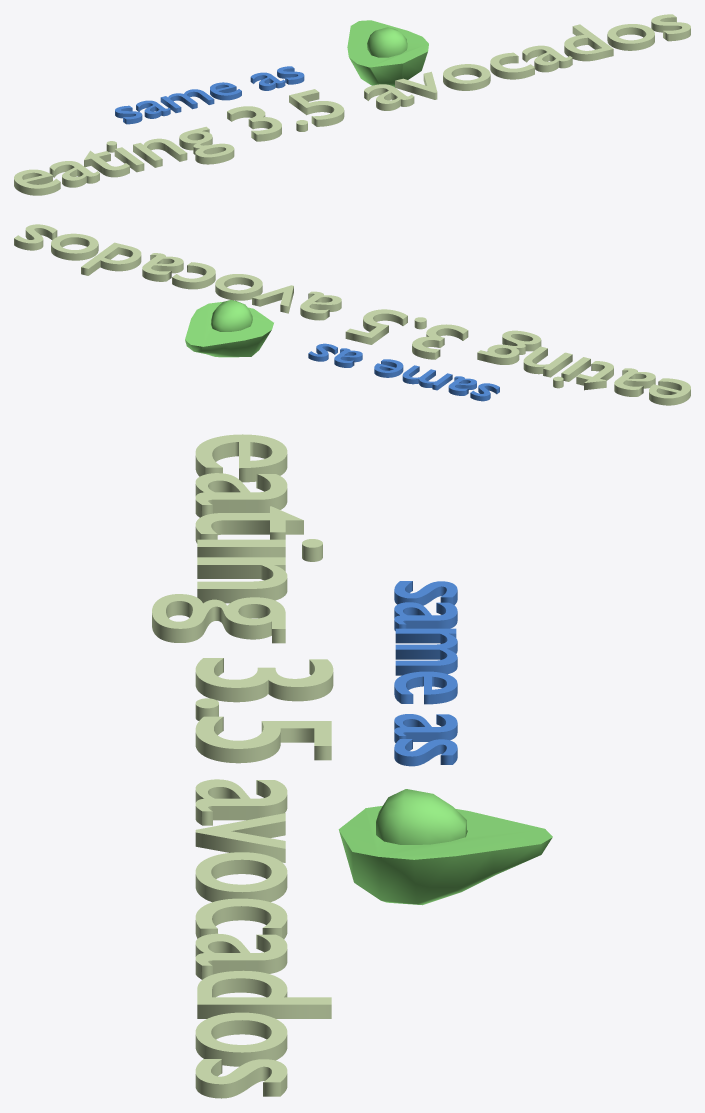
File: avotext.gltf
3 renders of one model, top to bottom at view 1: azimuth 30°, elevation 25°; view 2: azimuth 150°, elevation 25°; view 3: azimuth 270°, elevation 25°, orthographic. The views are drawn at different scales.
Visible parts, largest first — view 1: Text, Box002, Text.001; view 2: Text, Box002, Text.001; view 3: Text, Box002, Text.001.
Boxes of the visible parts, x1,y1,x2,y2 form: Text: (14, 14, 690, 195); Box002: (347, 20, 428, 87); Text.001: (115, 66, 304, 124); Text: (14, 224, 690, 405); Box002: (185, 300, 273, 357); Text.001: (308, 343, 499, 401); Text: (152, 434, 333, 1098); Box002: (338, 789, 552, 905); Text.001: (394, 581, 457, 766).
Size of the model in its own units: 7.81 by 0.6041 by 2.04.
